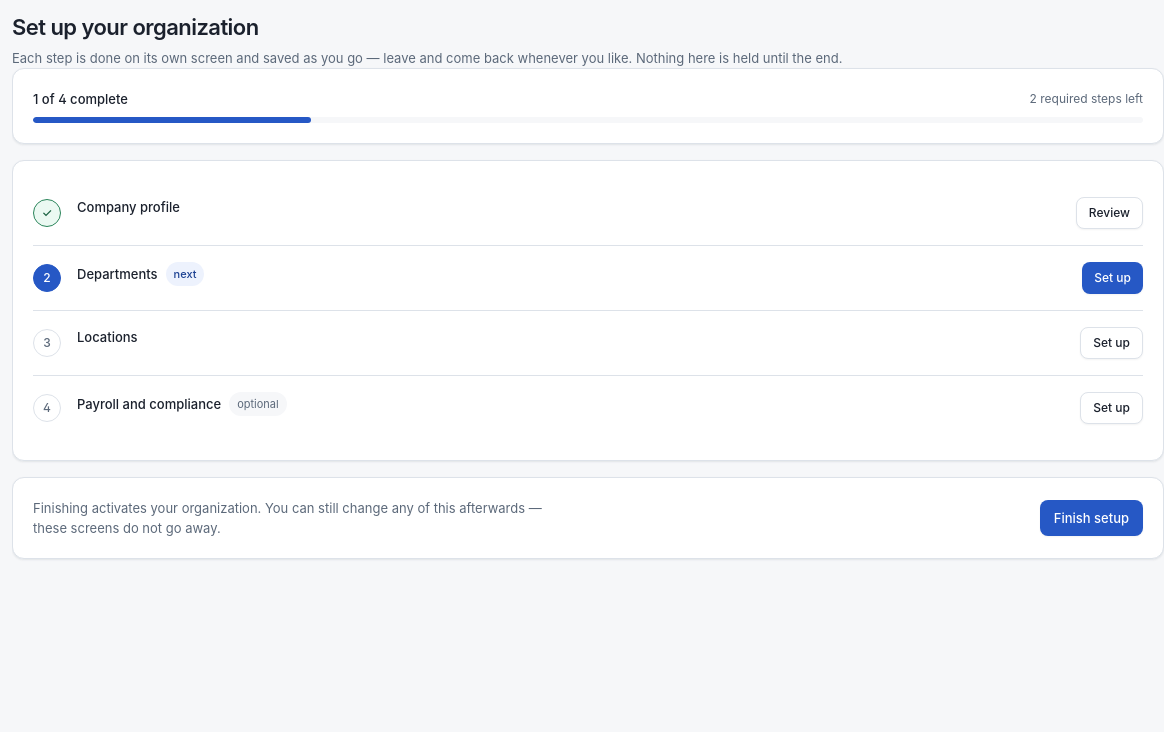
Test: finishing › shows the server refusal rather than a generic failure
Click the button "Finish setup" at (1091, 518), box [1040,500,1143,536]
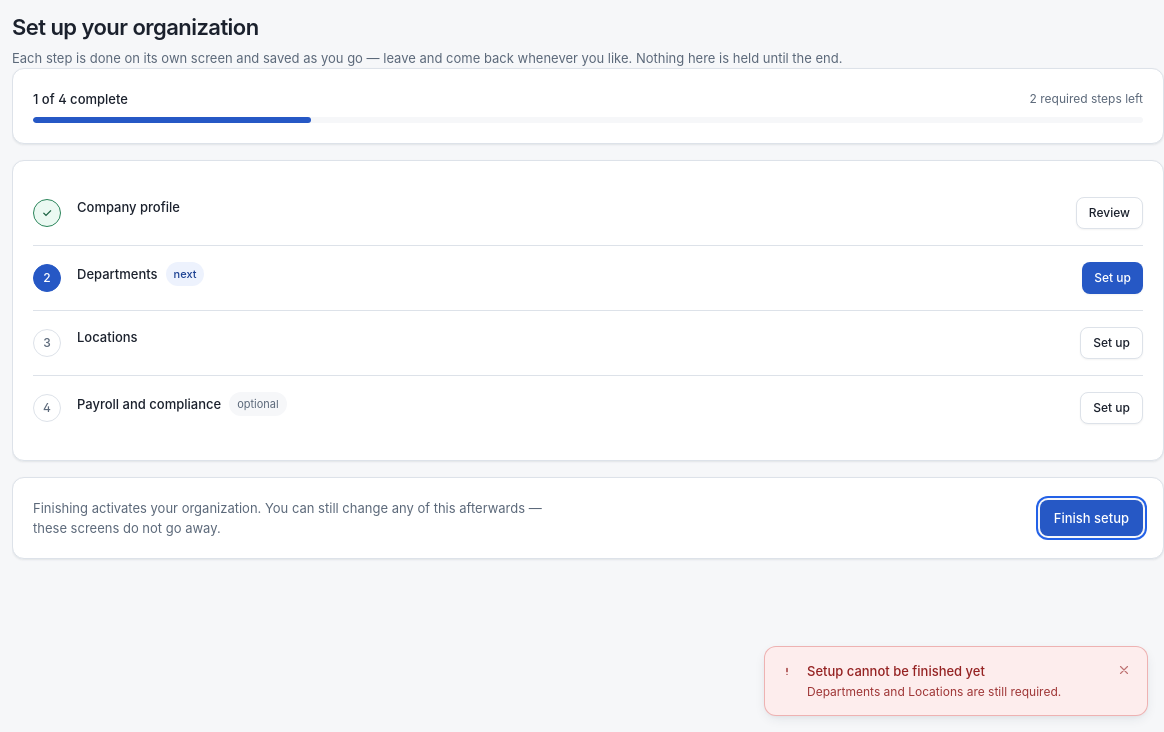
Check: the text "Departments and Locations are still required." is shown, box [807,683,1103,701]
